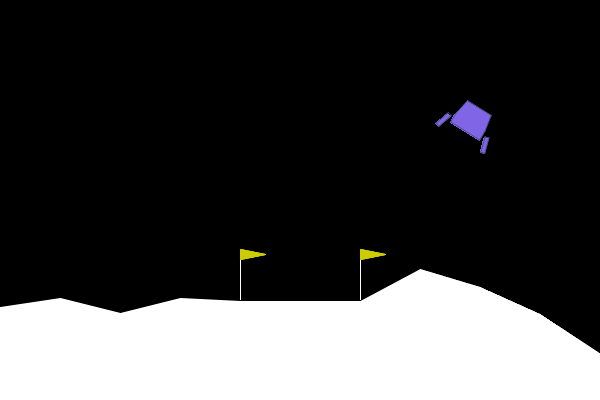lander: (433, 91, 505, 156)
